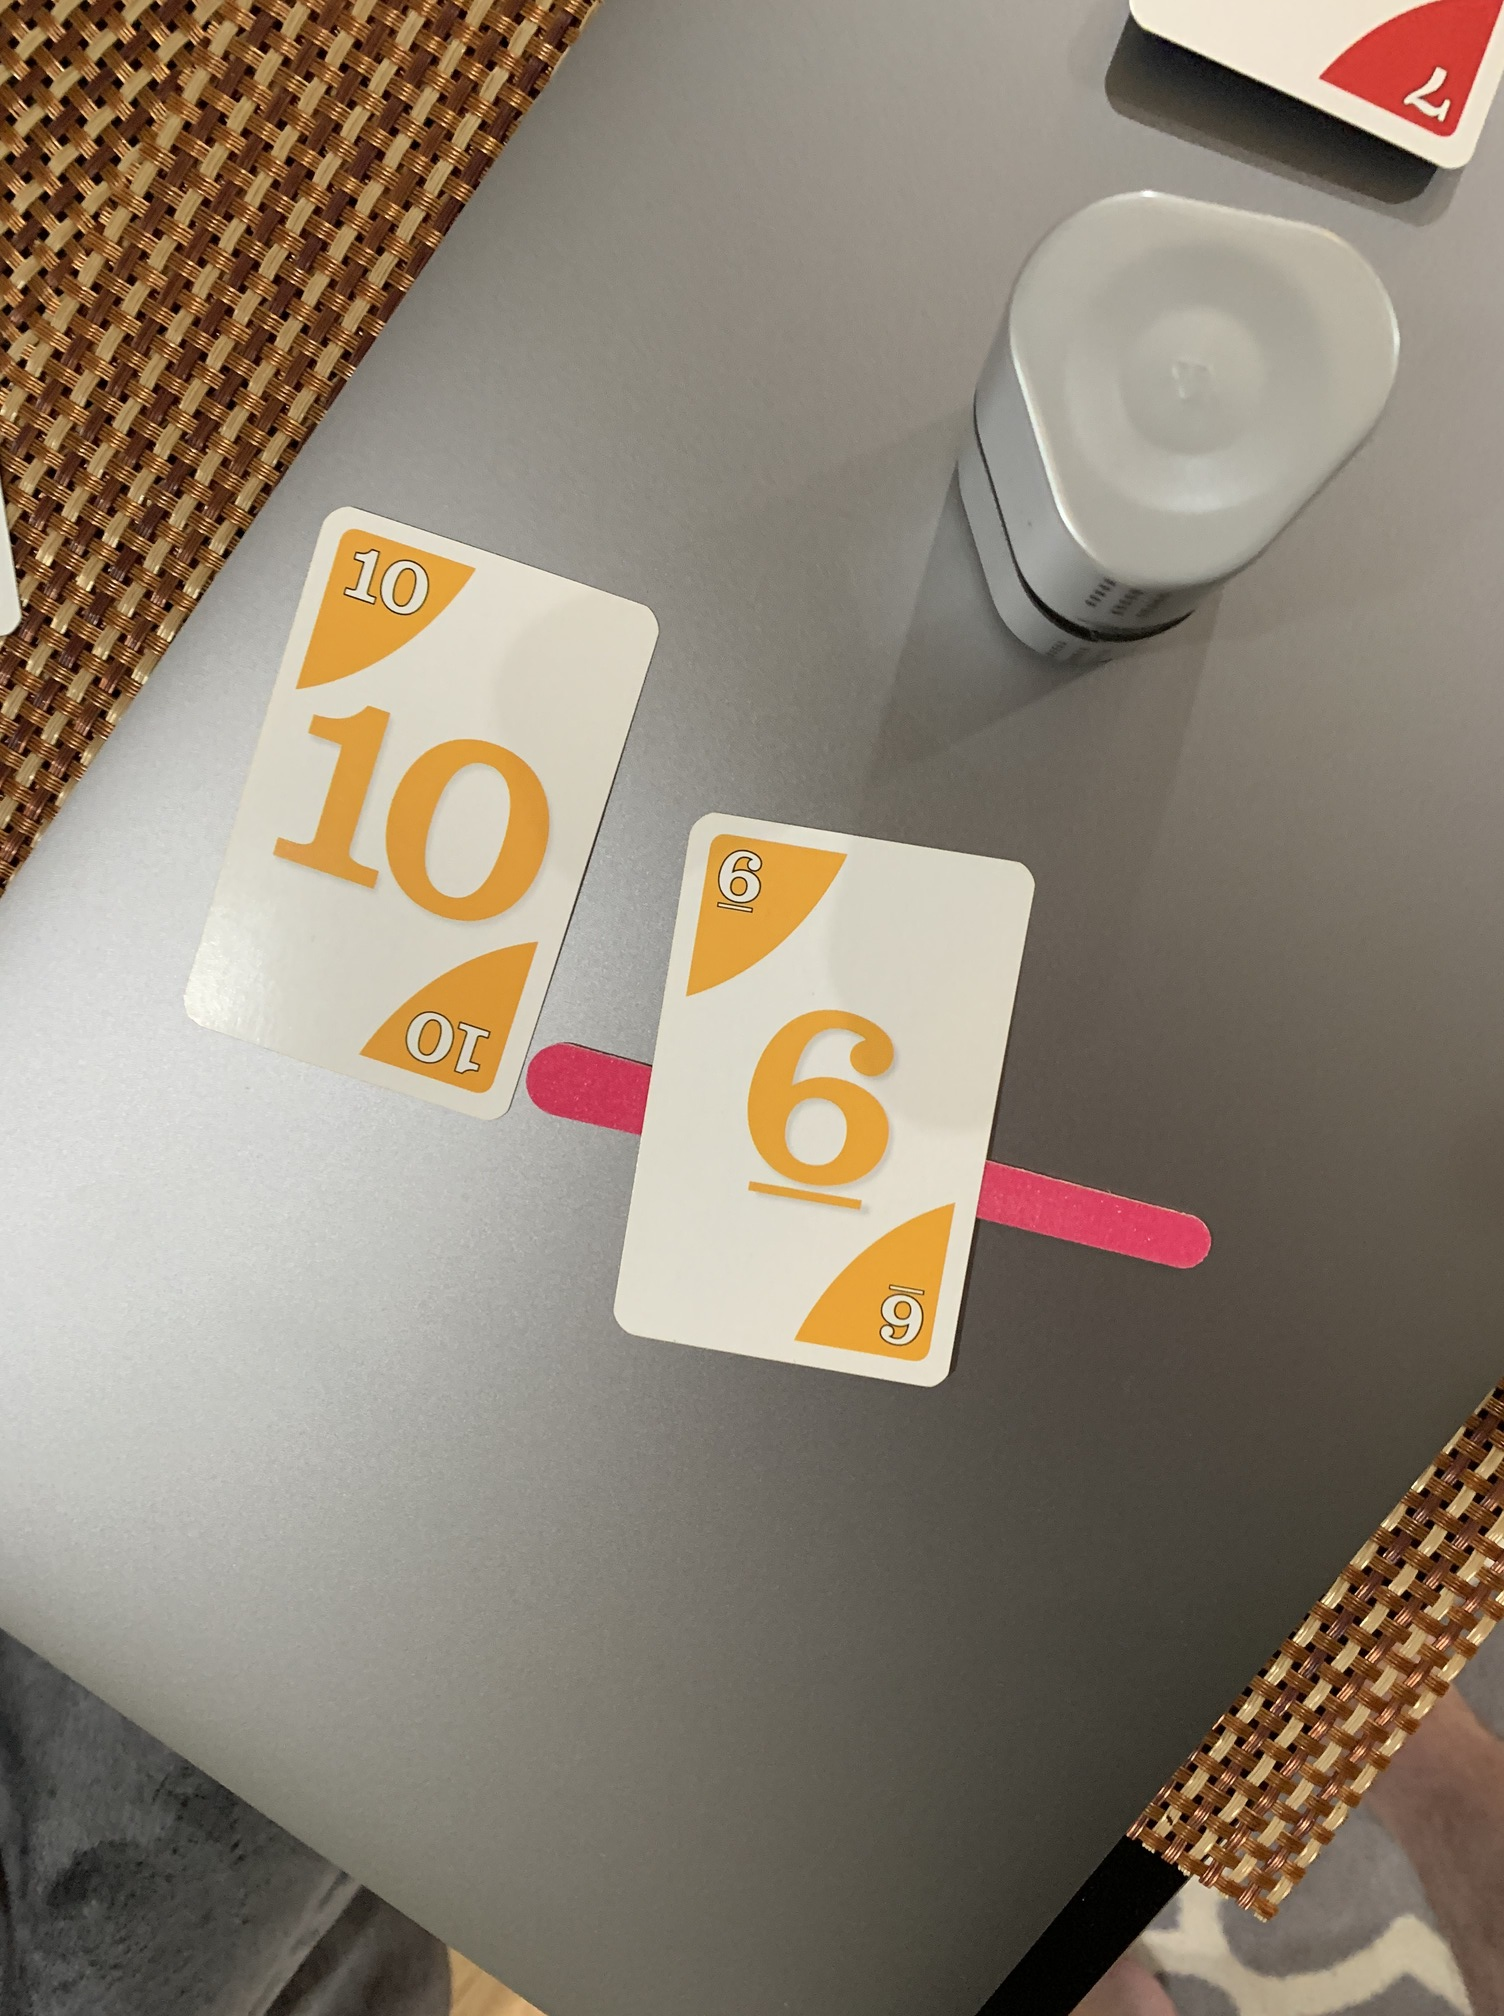six: (611, 812, 1041, 1401)
ten: (174, 506, 659, 1120)
